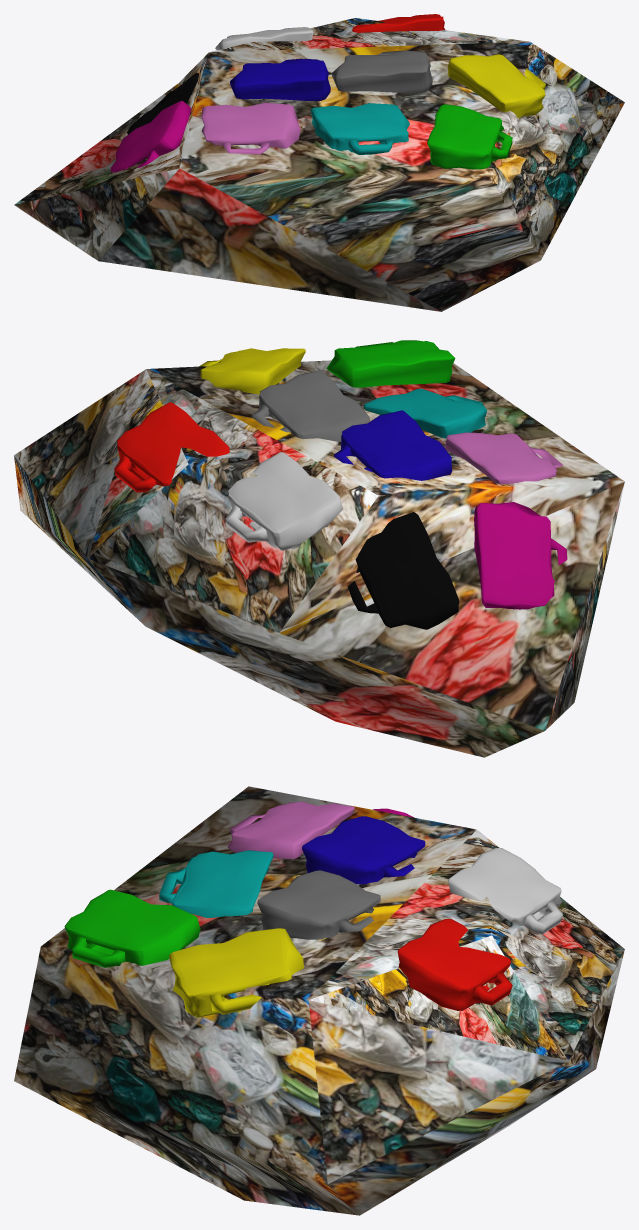
File: CHECKSKRALD7blend.fbx
3 renders of one model, top to bottom at view 1: azimuth 30°, elevation 25°; view 2: azimuth 150°, elevation 25°; view 3: azimuth 270°, elevation 25°, orthographic. The views are drawn at different scales.
Visible parts, largest first — view 1: Icosphere; view 2: Icosphere; view 3: Icosphere.
Boxes of the visible parts, x1,y1,x2,y2 form: Icosphere: (14, 14, 624, 311); Icosphere: (14, 340, 624, 757); Icosphere: (14, 786, 624, 1215).
Bounding box in the file's own units: 139 × 45.8 × 107.
11 materials, 1 textured.
